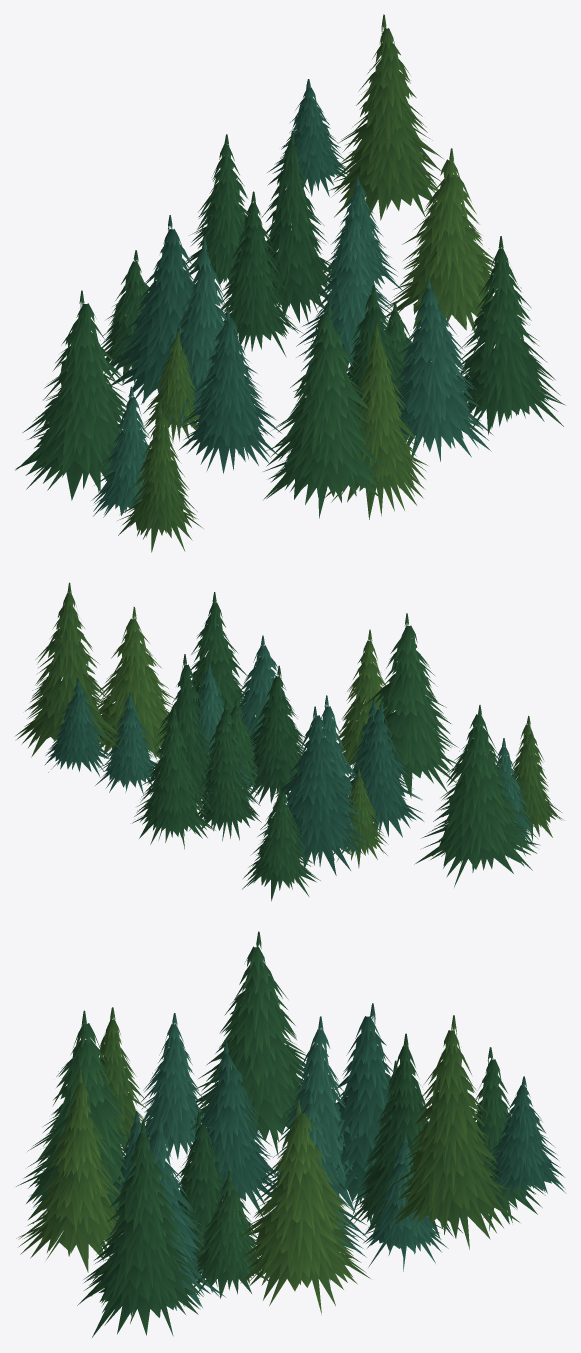
The model's file is pine_8.glb.
The picture shows the model from 3 angles, top to bottom: view 1: azimuth 30°, elevation 25°; view 2: azimuth 150°, elevation 25°; view 3: azimuth 270°, elevation 25°; orthographic projection. The views are drawn at different scales.
Visible parts, largest first — view 1: pine_8; view 2: pine_8; view 3: pine_8.
Boxes of the visible parts, <box> form: pine_8: <box>15,14,565,552</box>; pine_8: <box>15,582,564,901</box>; pine_8: <box>16,931,566,1337</box>.
Bounding box in the file's own units: 38.78 × 22.7 × 33.62.
1 material, 1 textured.
